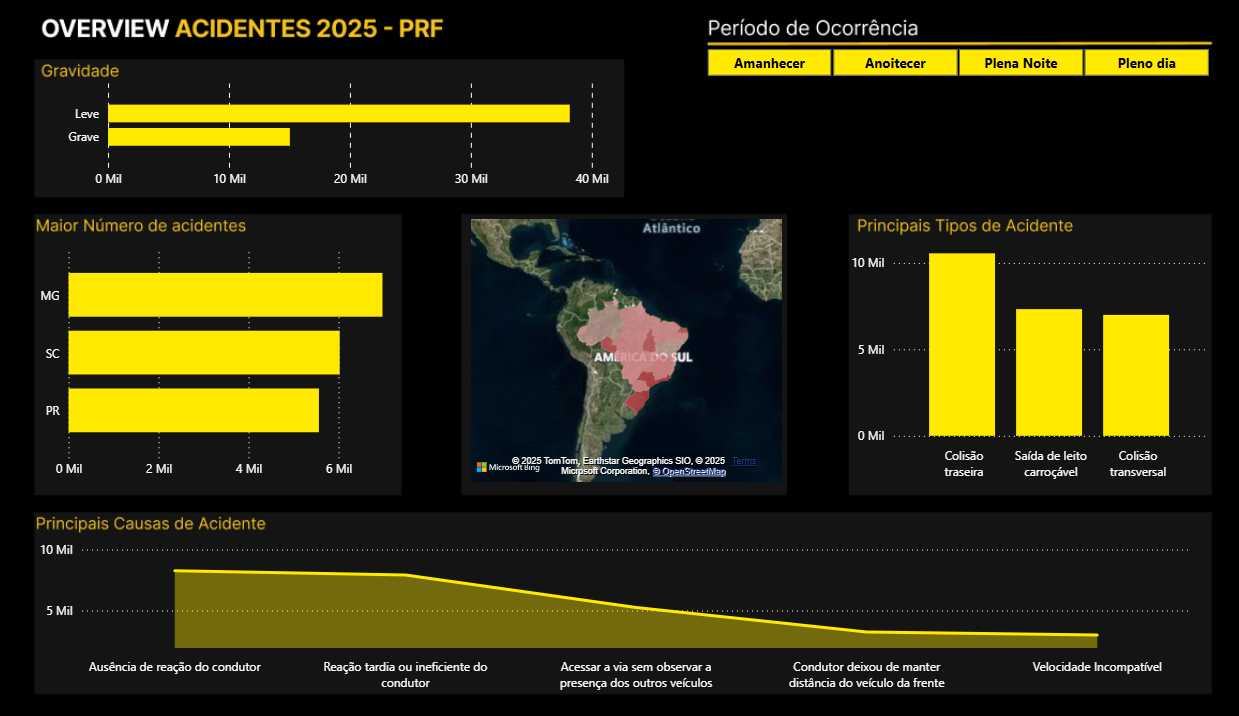

Layout of this report page (visuals, bound fields, positions):
{"tool":"powerbi","page":{"name":"Página 1","canvas":[1280,720],"ordinal":0},"visuals":[{"type":"filledMap","fields":{"Category":["prf_db acidentes.regiao_ajustada"]},"box":[492.5,217.5,320,272.5],"z":0},{"type":"clusteredBarChart","fields":{"Category":["prf_db acidentes.Estado"],"Y":["CountNonNull(prf_db acidentes.id)"]},"box":[58.8,240,370,250],"z":1000},{"type":"clusteredColumnChart","fields":{"Category":["prf_db acidentes.tipo_acidente"],"Y":["CountNonNull(prf_db acidentes.id)"]},"box":[872.5,217.5,366.2,272.5],"z":2000},{"type":"areaChart","fields":{"Category":["prf_db acidentes.causa_acidente"],"Y":["CountNonNull(prf_db acidentes.id)"]},"box":[58.8,538.8,1180,162.5],"z":3000},{"type":"pivotTable","fields":{"Rows":["prf_db acidentes.data_inversa.Variation.Hierarquia de datas.Dia"],"Columns":["prf_db acidentes.horario"],"Values":["CountNonNull(prf_db acidentes.id)"]},"box":[1259,280.2,12.5,116.8],"z":4000},{"type":"slicer","fields":{"Values":["prf_db acidentes.fase_dia"]},"box":[707.5,45,551.2,37.5],"z":5000},{"type":"clusteredBarChart","fields":{"Category":["prf_db acidentes.gravidade"],"Y":["CountNonNull(prf_db acidentes.veiculos)"]},"box":[86.2,73.8,553.8,126.2],"z":6000}]}

Visuals, with their boxes in screenshot pixels (x1, y1, x2, y2), scaled from the page's 1280x720 canvas onto the 1239x716 screenshot:
filledMap - prf_db acidentes.regiao_ajustada: [x1=477, y1=216, x2=786, y2=487]
clusteredBarChart - prf_db acidentes.Estado x CountNonNull(prf_db acidentes.id): [x1=57, y1=239, x2=415, y2=487]
clusteredColumnChart - prf_db acidentes.tipo_acidente x CountNonNull(prf_db acidentes.id): [x1=845, y1=216, x2=1199, y2=487]
areaChart - prf_db acidentes.causa_acidente x CountNonNull(prf_db acidentes.id): [x1=57, y1=536, x2=1199, y2=697]
pivotTable - prf_db acidentes.data_inversa.Variation.Hierarquia de datas.Dia x prf_db acidentes.horario: [x1=1219, y1=279, x2=1231, y2=395]
slicer - prf_db acidentes.fase_dia: [x1=685, y1=45, x2=1218, y2=82]
clusteredBarChart - prf_db acidentes.gravidade x CountNonNull(prf_db acidentes.veiculos): [x1=83, y1=73, x2=620, y2=199]
